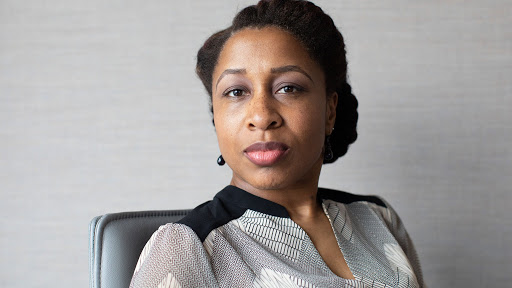bare: (213, 108, 325, 185)
